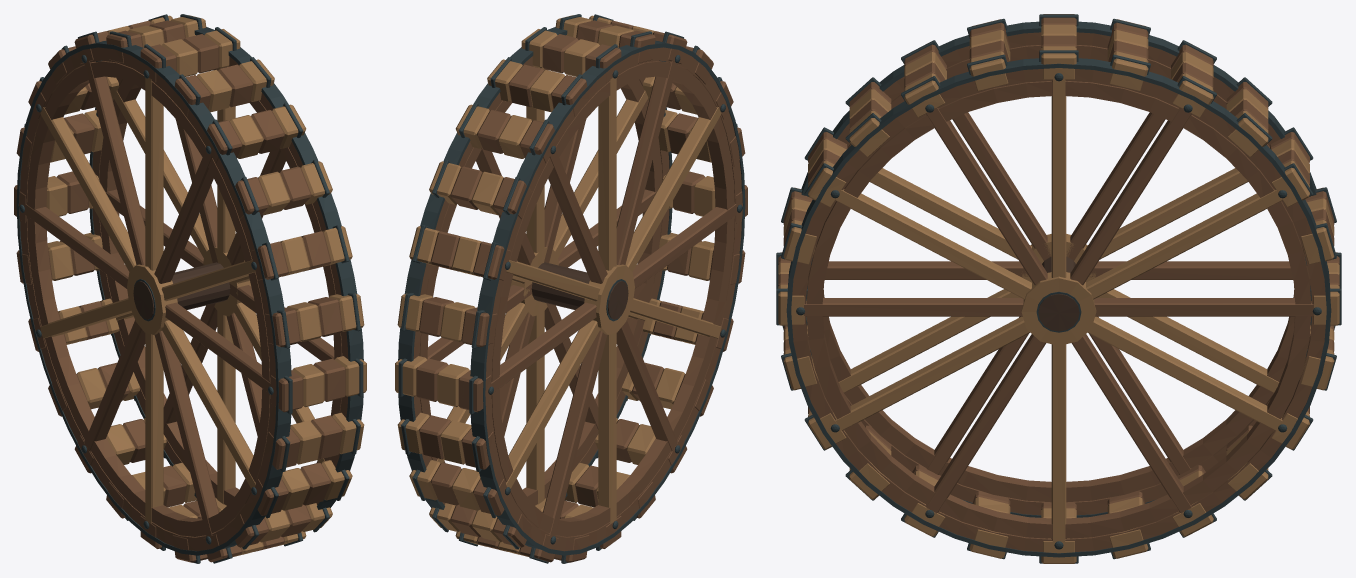
The model's file is mill_wheel.glb.
3 renders of one model, left to right at view 1: azimuth 30°, elevation 25°; view 2: azimuth 150°, elevation 25°; view 3: azimuth 270°, elevation 25°, orthographic. The views are drawn at different scales.
Parts seen in each view (by area): view 1: Detailed structure surfaces; view 2: Detailed structure surfaces; view 3: Detailed structure surfaces.
Part boxes in pixels (box(x1,y1,x2,y2)): Detailed structure surfaces: box(14, 14, 366, 563); Detailed structure surfaces: box(395, 14, 747, 563); Detailed structure surfaces: box(776, 14, 1341, 563).
Bounding box in the file's own units: 1.2 × 6 × 6.
Materials: 1 (1 with a texture image).
